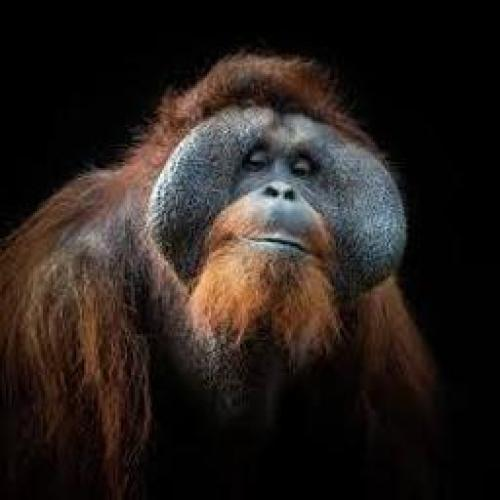orangutan-endangered: (17, 57, 403, 460)
